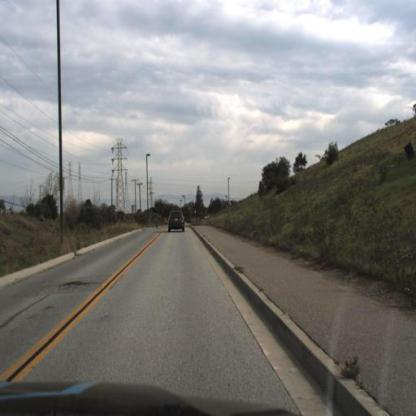car: (168, 209, 187, 235)
